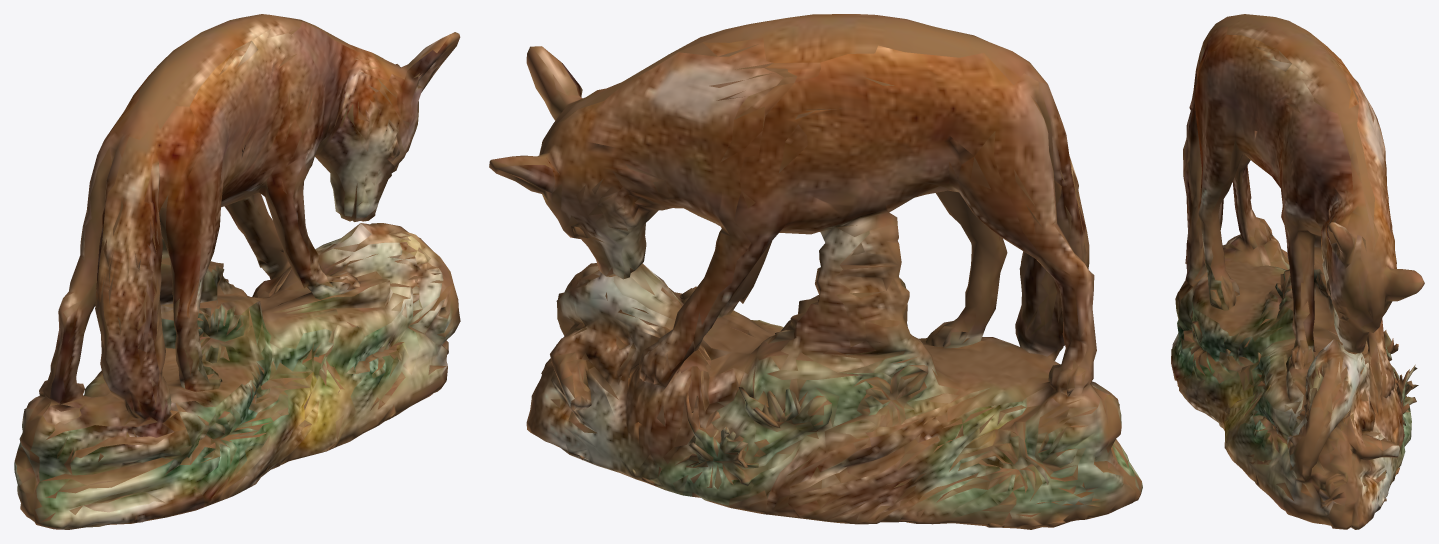
File: fox-20177420.glb
The picture shows the model from 3 angles, left to right: view 1: azimuth 30°, elevation 25°; view 2: azimuth 150°, elevation 25°; view 3: azimuth 270°, elevation 25°; orthographic projection. The views are drawn at different scales.
Visible parts, largest first — view 1: Mesh; view 2: Mesh; view 3: Mesh.
Boxes of the visible parts, x1,y1,x2,y2 form: Mesh: [14, 14, 460, 529]; Mesh: [489, 14, 1142, 529]; Mesh: [1171, 14, 1424, 529].
Bounding box in the file's own units: 0.1647 × 0.1331 × 0.08.
1 material, 1 textured.
